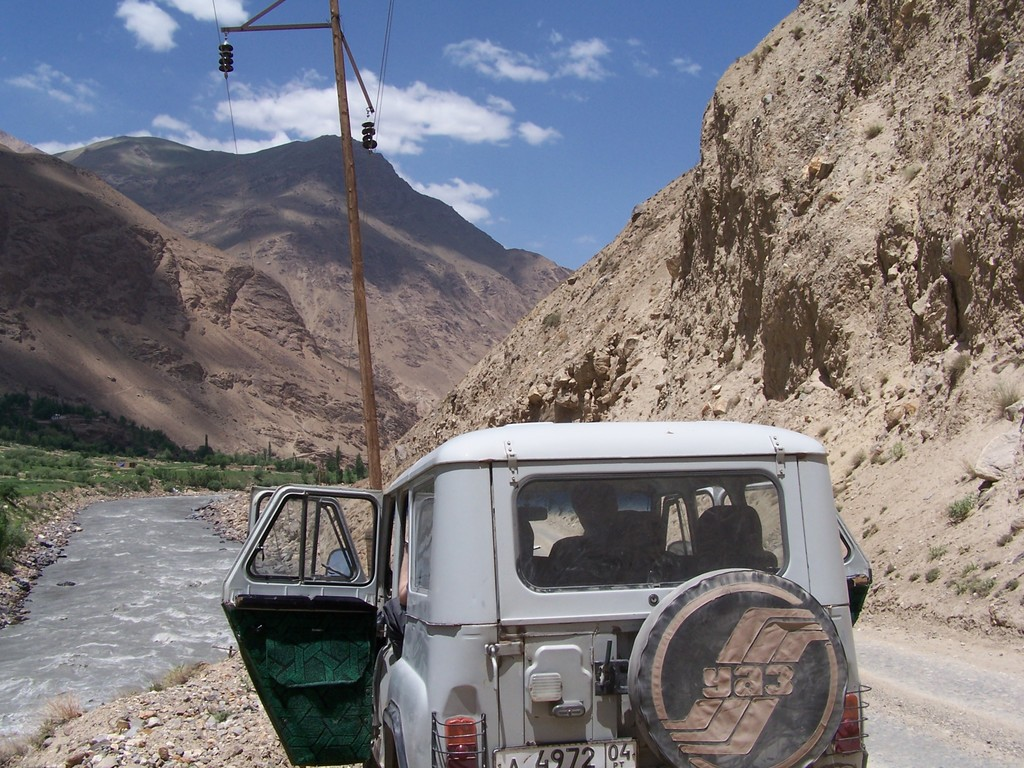Car: (220, 419, 874, 767)
